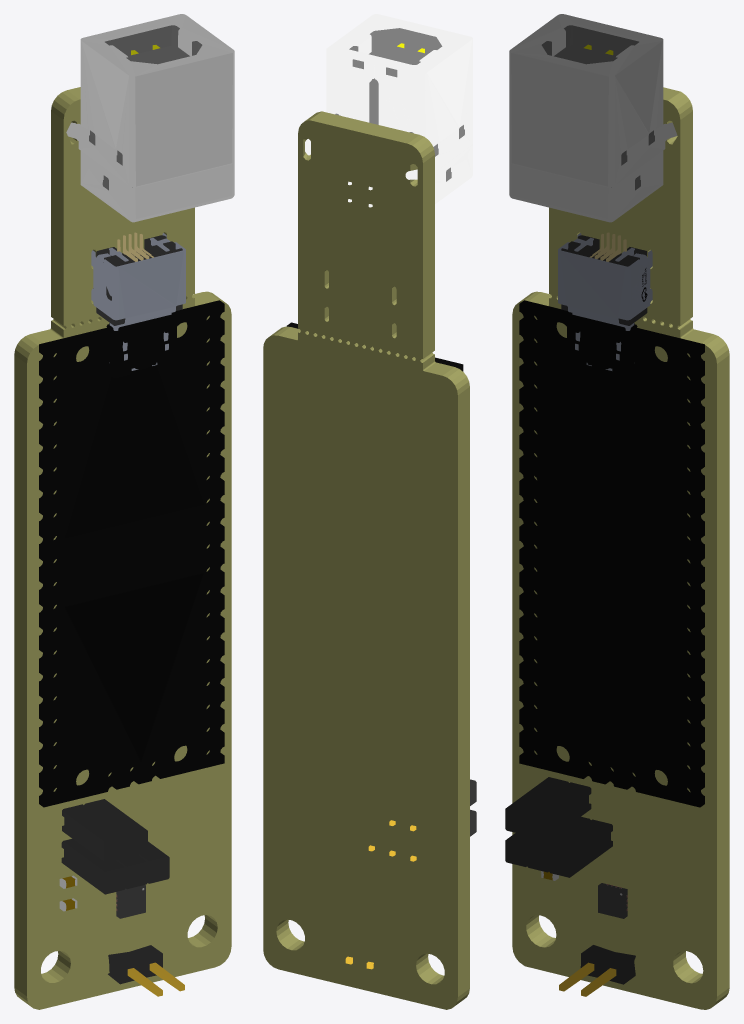
The model's file is OBJ_PCB_EasyEDA-Project - Pico audio maker.obj.
The picture shows the model from 3 angles, left to right: view 1: azimuth 30°, elevation 25°; view 2: azimuth 150°, elevation 25°; view 3: azimuth 330°, elevation 25°; orthographic projection. The views are drawn at different scales.
Size of the model in its own units: 93.29 by 420 by 55.9.
